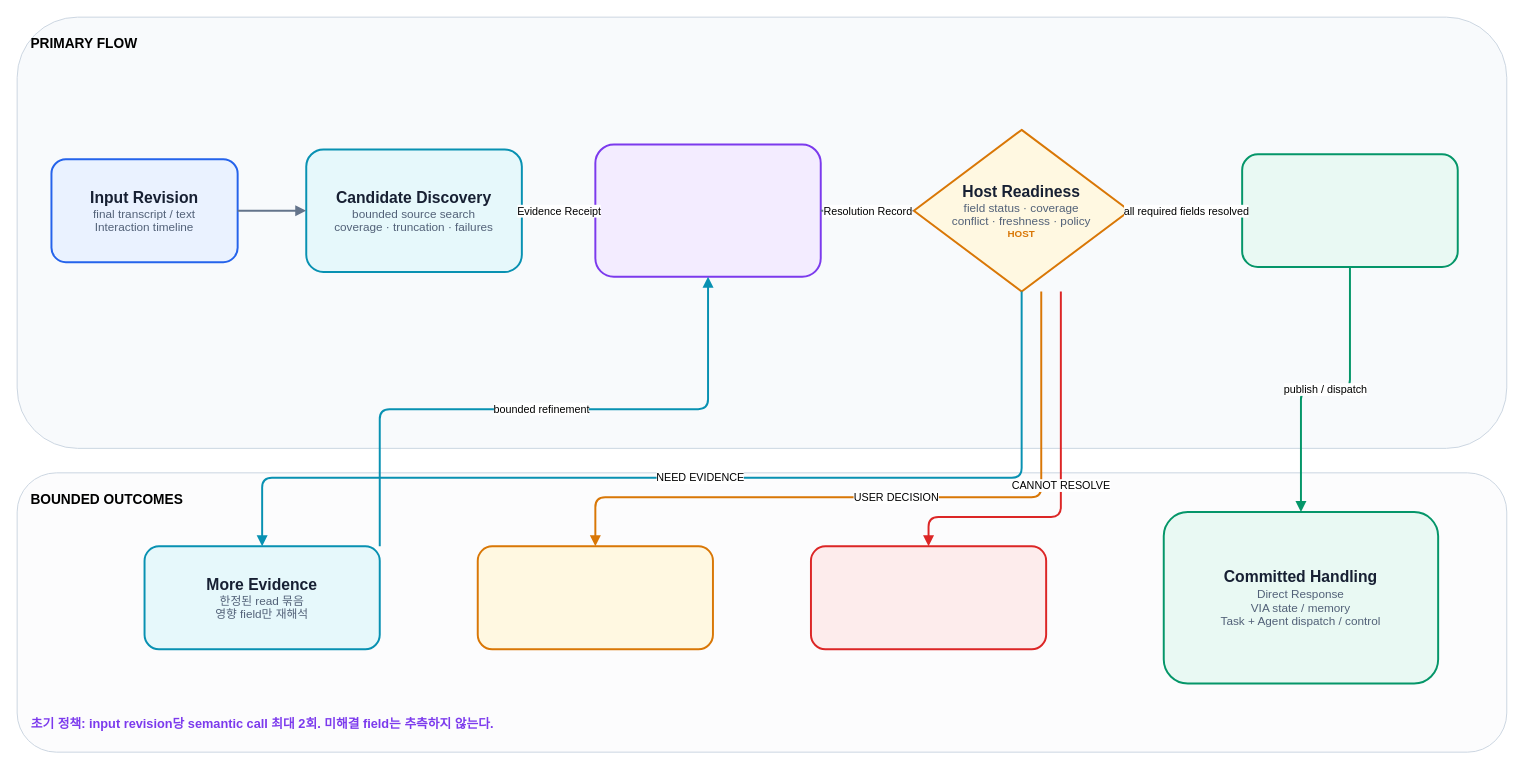
Some shapes in this 1524 by 769 pixel diagram are drawn without their labels. Here are the shapes that lost their labels. From the top down, the centre of each, then its label:
At point 707,210: "Semantic Proposal goal · referent · Task · handling 경쟁 후보·배제 근거".
At point 1349,210: "Semantic Commit immutable resolution dependency revision vector AUTHORITY".
At point 594,597: "Clarification Pending User Interaction 사용자만 구분할 최소 차이".
At point 928,597: "Safe Failure 근거 부족 · 기능 미지원 확인 불가를 명시".
